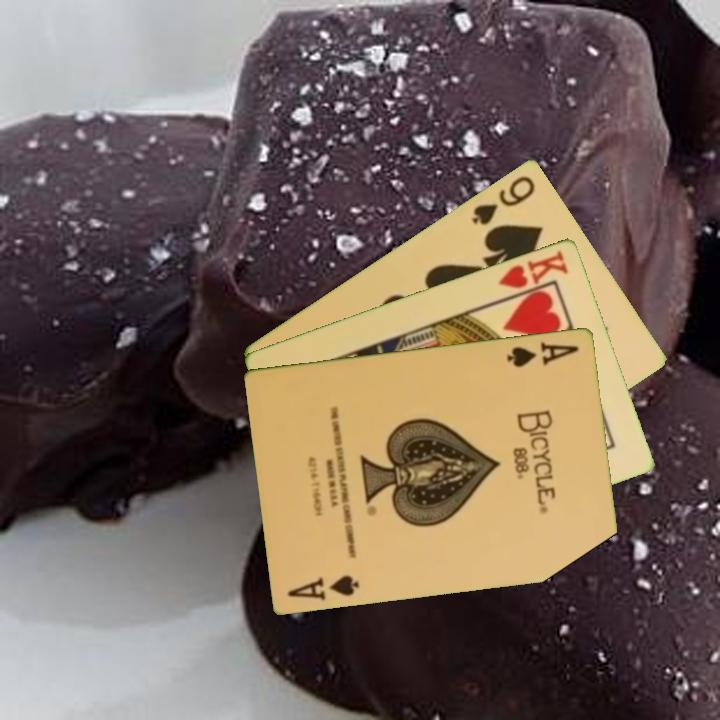9s: (468, 171, 539, 228)
As: (504, 338, 582, 370), (284, 571, 362, 603)
Kh: (495, 246, 572, 302)
